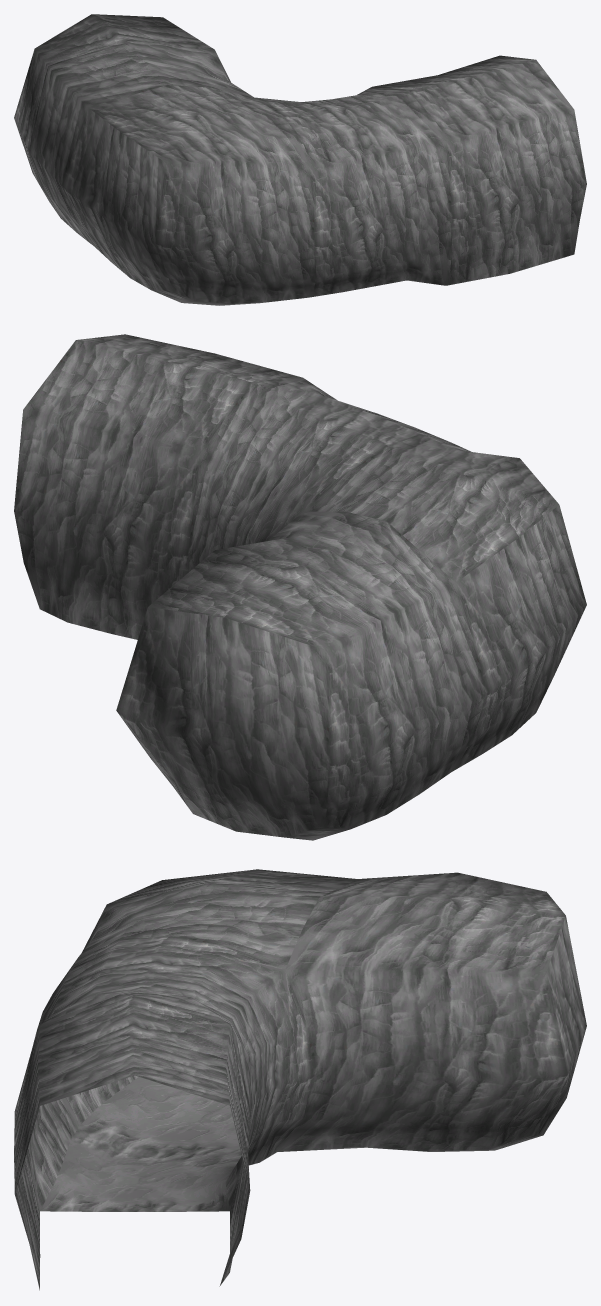
The model's file is SWORDLIGHT20_PS-AREA01_08.fbx.
3 renders of one model, top to bottom at view 1: azimuth 30°, elevation 25°; view 2: azimuth 150°, elevation 25°; view 3: azimuth 270°, elevation 25°, orthographic. The views are drawn at different scales.
Visible parts, largest first — view 1: SWORDLIGHT20_PS-AREA01_08; view 2: SWORDLIGHT20_PS-AREA01_08; view 3: SWORDLIGHT20_PS-AREA01_08.
Part boxes in pixels (<box>): SWORDLIGHT20_PS-AREA01_08: <box>14,14,586,305</box>; SWORDLIGHT20_PS-AREA01_08: <box>14,334,586,840</box>; SWORDLIGHT20_PS-AREA01_08: <box>14,869,586,1290</box>.
Bounding box in the file's own units: 182722 × 82916 × 180980.
3 materials, 3 textured.
